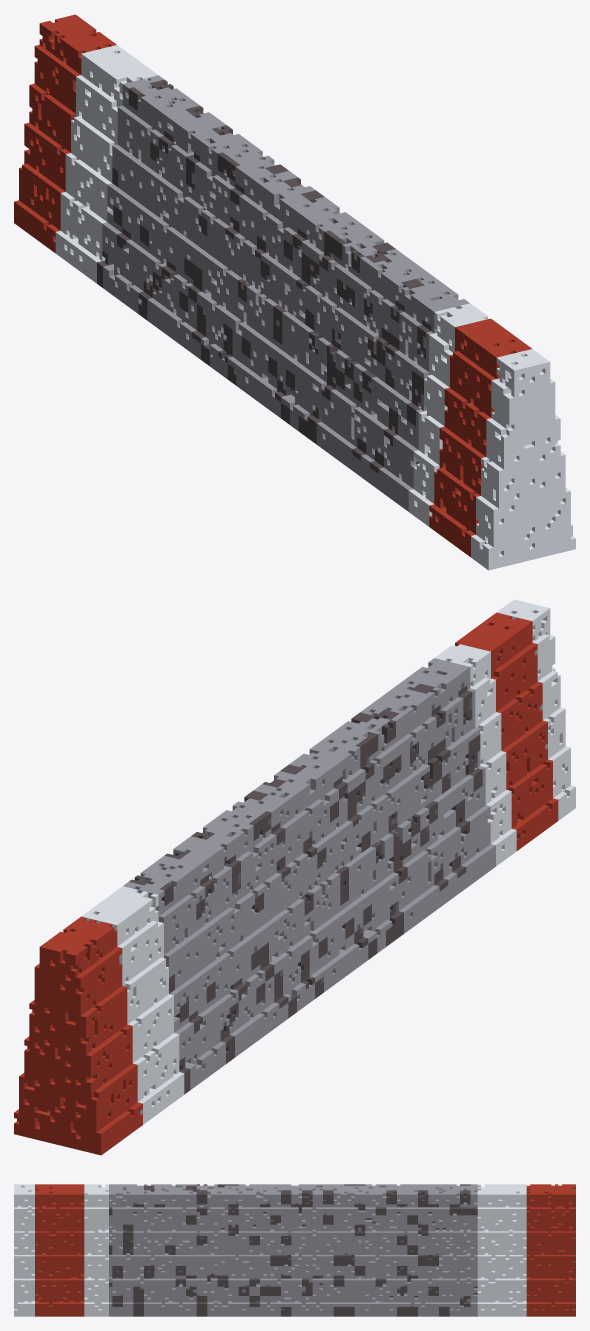
Rendered from barrier_hard_1.obj.
3 views of the same model, one above another, from view 1: azimuth 30°, elevation 25°; view 2: azimuth 150°, elevation 25°; view 3: azimuth 270°, elevation 25° (orthographic). The views are drawn at different scales.
Bounding box in the file's own units: 0.425 × 0.9 × 4.
1 material, 1 textured.
